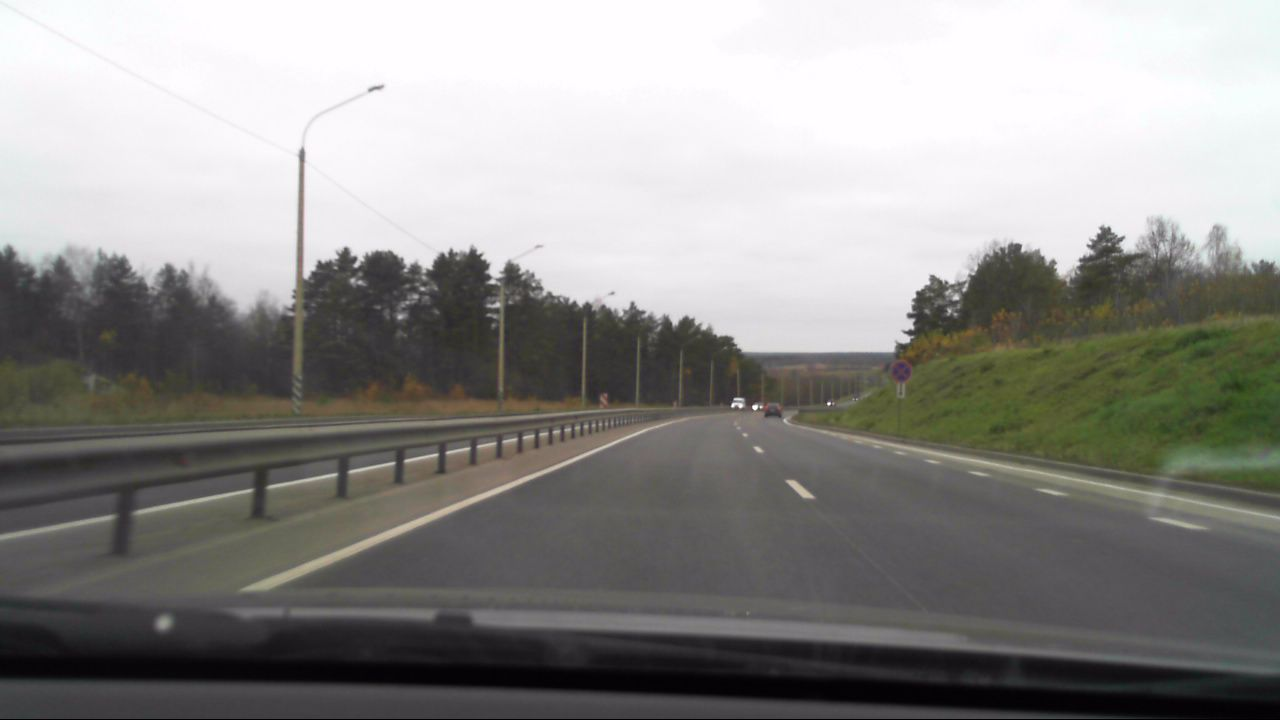No Parking: (888, 355, 913, 382)
